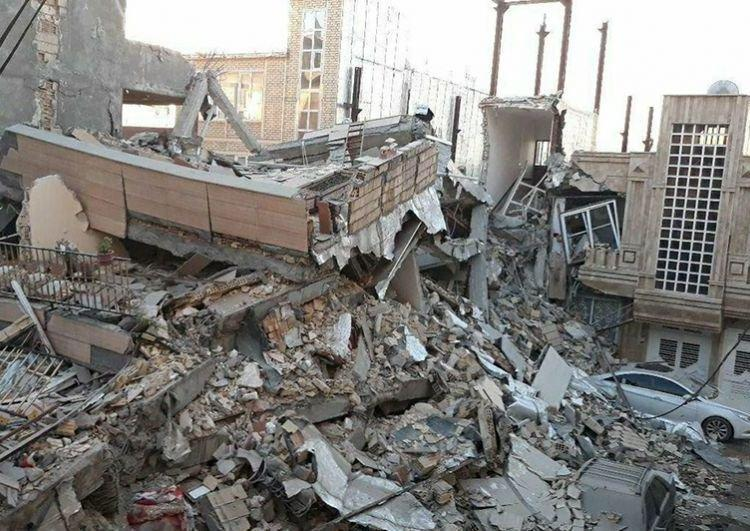destroyed: (9, 121, 641, 520)
